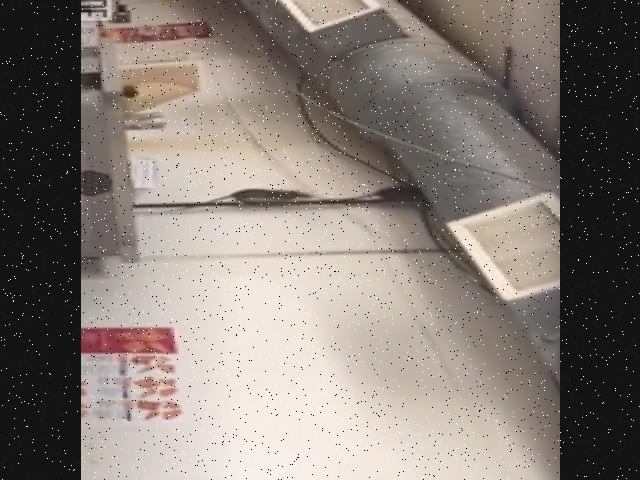Tikus: (202, 182, 316, 215), (352, 180, 418, 208)
